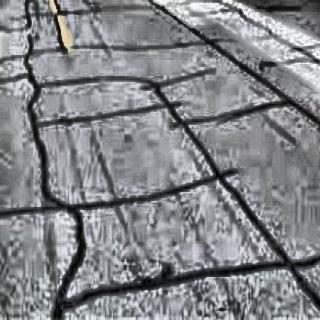crack: (151, 78, 319, 320), (148, 0, 320, 131), (24, 35, 87, 319), (1, 162, 238, 222), (88, 250, 320, 301), (1, 33, 235, 66), (221, 0, 320, 70), (169, 96, 293, 136), (35, 100, 185, 128), (33, 73, 155, 96), (142, 62, 220, 92), (188, 1, 238, 21), (52, 0, 68, 55), (1, 70, 32, 89), (20, 0, 37, 29)
